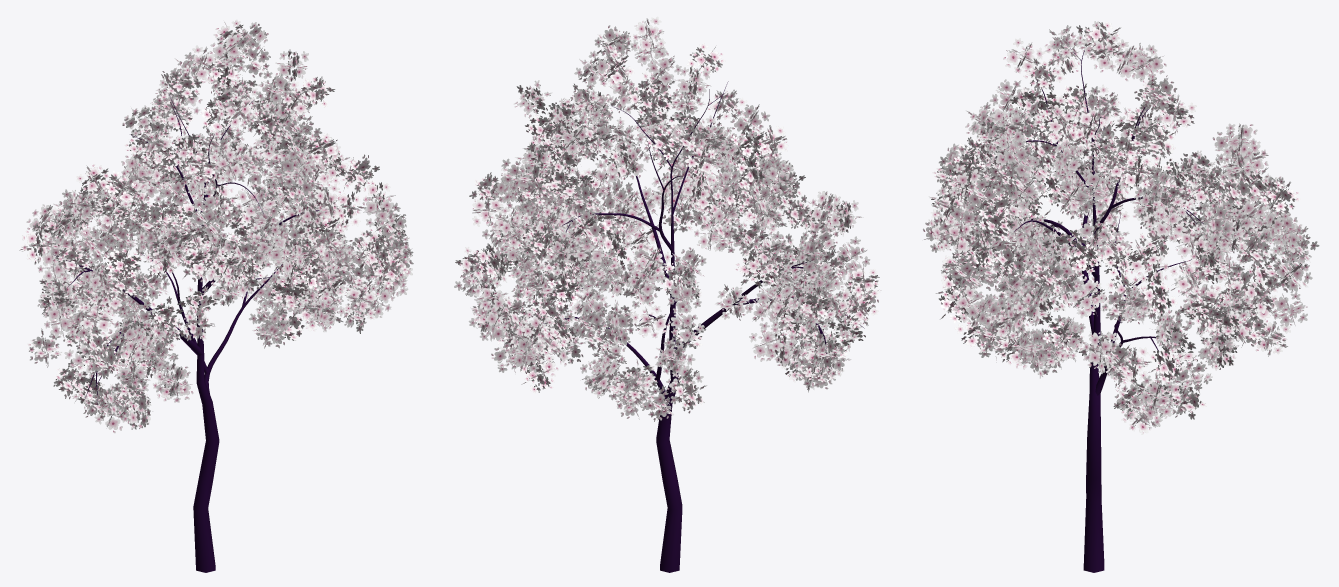
Rendered from Tree3.3.fbx.
3 renders of one model, left to right at view 1: azimuth 30°, elevation 25°; view 2: azimuth 150°, elevation 25°; view 3: azimuth 270°, elevation 25°, orthographic. The views are drawn at different scales.
Visible parts, largest first — view 1: Leaf2, Trunk.001; view 2: Leaf2, Trunk.001; view 3: Leaf2, Trunk.001.
Part boxes in pixels (<box>): Leaf2: <box>19,19,413,433</box>; Trunk.001: <box>53,94,319,572</box>; Leaf2: <box>454,16,881,421</box>; Trunk.001: <box>543,81,864,572</box>; Leaf2: <box>923,21,1319,434</box>; Trunk.001: <box>995,46,1203,572</box>.
Size of the model in its own units: 511 by 730 by 479.
